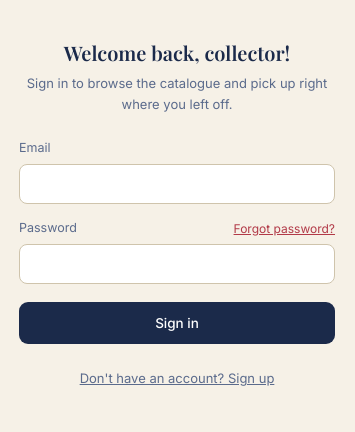
Scenario: Login — sign-in › signs back out and shows a clear message for a non-Collector role
Type "collector@example.test" into the field labelled "Email". click: coordinates (177, 184)
box: [19, 164, 335, 204]
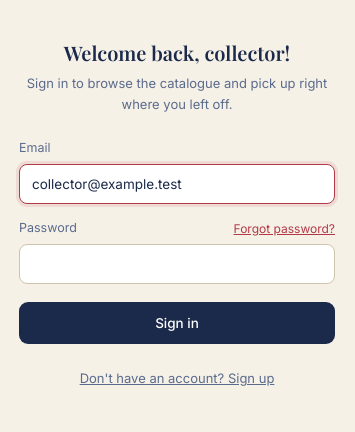
Type "a-password" into the password field labelled "Password". click: coordinates (177, 264)
box: [19, 244, 335, 284]
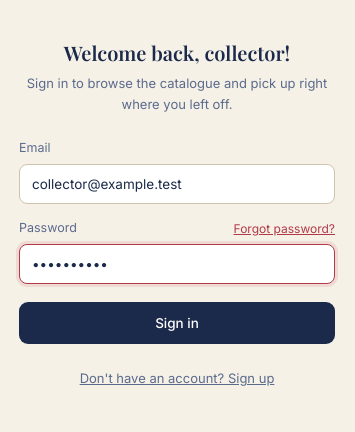
Click the button "Sign in". click: coordinates (177, 323)
box: [19, 302, 335, 344]
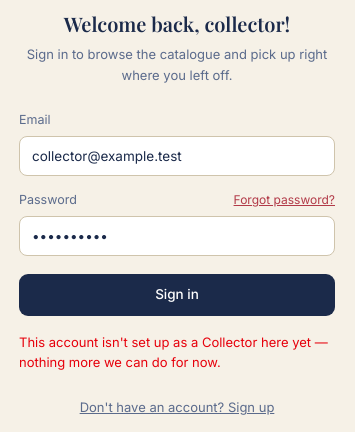
Result: the text "isn't set up as a Collector" is shown at [19, 334, 328, 370]
